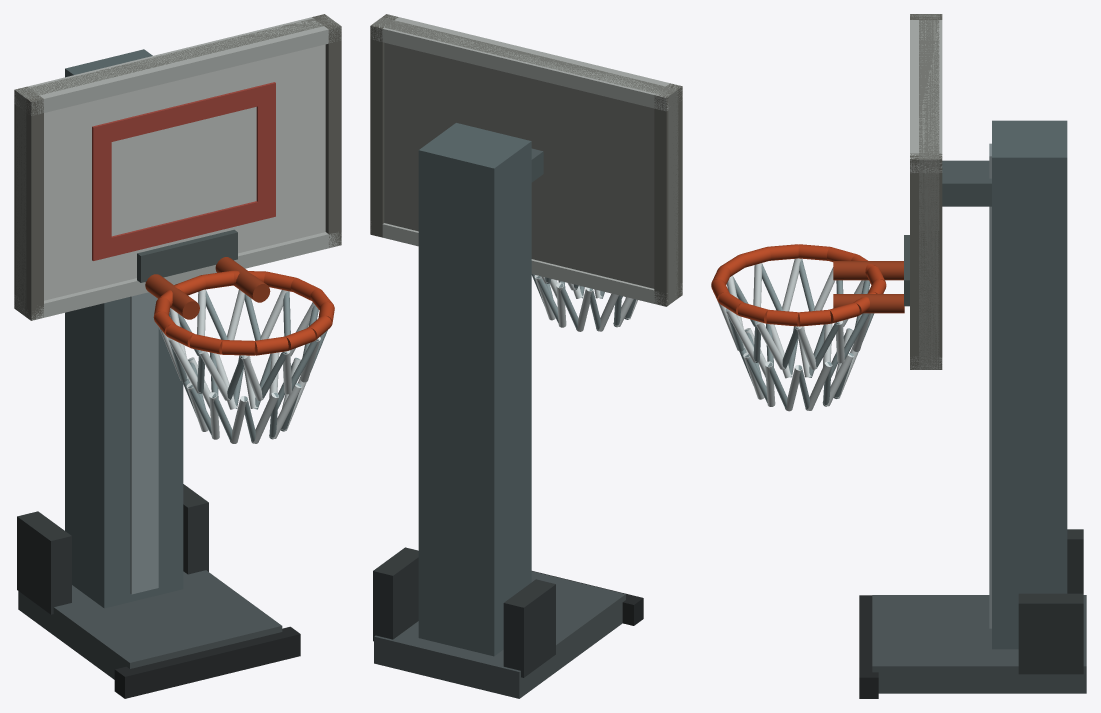
The model's file is CMU3DBasketballHoopAltCloudWest.glb.
3 views of the same model, side by side, from view 1: azimuth 30°, elevation 25°; view 2: azimuth 150°, elevation 25°; view 3: azimuth 270°, elevation 25° (orthographic). The views are drawn at different scales.
Visible parts, largest first — view 1: backboard white front, upright square metal column, weighted rectangular stand foot, backboard top bottom border (×2), backboard side border (×2), column central highlight, red target square horizontal (×2), raised stand rear support (×2), backboard rigid backing, base front dark skirt, red target square side (×2), hoop mounting plate (+4 smaller); view 2: upright square metal column, backboard rigid backing, weighted rectangular stand foot, backboard top bottom border (×2), raised stand rear support (×2), backboard side border (×2), base front dark skirt; view 3: upright square metal column, weighted rectangular stand foot, backboard rigid backing, raised stand rear support (×2), backboard side border, backboard top bottom border, board offset mounting arm, base front dark skirt, column central highlight, rim back mounting brace, rim back mounting brace right.
Part boxes in pixels (left/top/right/bottom): backboard white front: left=44, top=44, right=325, bottom=300; upright square metal column: left=65, top=49, right=183, bottom=608; weighted rectangular stand foot: left=18, top=570, right=282, bottom=679; backboard top bottom border (×2): left=14, top=16, right=341, bottom=320; backboard side border (×2): left=14, top=14, right=341, bottom=320; column central highlight: left=130, top=292, right=158, bottom=594; red target square horizontal (×2): left=92, top=82, right=275, bottom=260; raised stand rear support (×2): left=17, top=484, right=208, bottom=614; backboard rigid backing: left=16, top=16, right=336, bottom=316; base front dark skirt: left=114, top=626, right=300, bottom=698; red target square side (×2): left=92, top=82, right=275, bottom=260; hoop mounting plate: left=137, top=229, right=237, bottom=282; upright square metal column: left=418, top=123, right=531, bottom=656; backboard rigid backing: left=372, top=17, right=678, bottom=305; weighted rectangular stand foot: left=374, top=571, right=625, bottom=698; backboard top bottom border (×2): left=370, top=15, right=682, bottom=306; raised stand rear support (×2): left=373, top=547, right=555, bottom=677; backboard side border (×2): left=370, top=14, right=682, bottom=306; base front dark skirt: left=532, top=571, right=643, bottom=625; upright square metal column: left=992, top=120, right=1067, bottom=649; weighted rectangular stand foot: left=872, top=595, right=1086, bottom=693; backboard rigid backing: left=919, top=14, right=939, bottom=369; raised stand rear support (×2): left=1018, top=529, right=1083, bottom=674; backboard side border: left=910, top=153, right=942, bottom=369; backboard top bottom border: left=910, top=14, right=942, bottom=173; board offset mounting arm: left=942, top=160, right=991, bottom=206; base front dark skirt: left=859, top=595, right=878, bottom=698; column central highlight: left=989, top=143, right=991, bottom=628; rim back mounting brace: left=833, top=261, right=903, bottom=280; rim back mounting brace right: left=833, top=294, right=904, bottom=313.
Size of the model in its own units: 0.53 by 0.969 by 0.5778.
